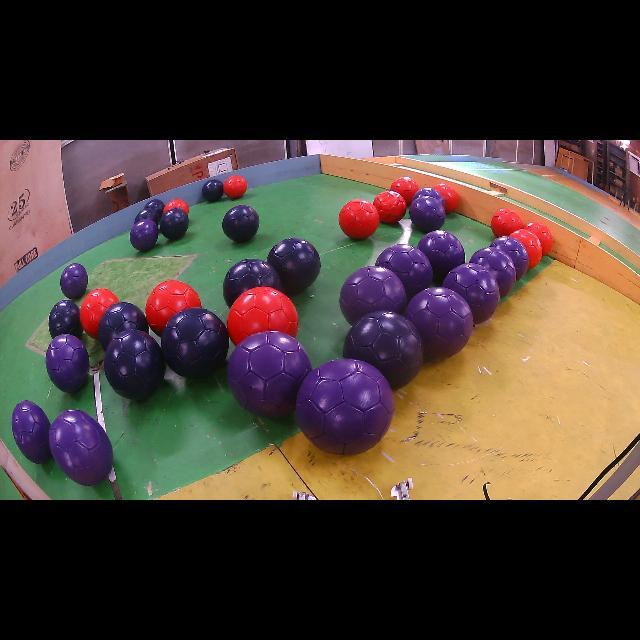B: (344, 310, 424, 389), (161, 308, 229, 379), (104, 329, 165, 399), (222, 259, 284, 308), (268, 238, 321, 294), (98, 302, 149, 351), (222, 205, 260, 242), (49, 300, 82, 339), (160, 208, 189, 240), (201, 180, 224, 201), (135, 209, 159, 226), (145, 199, 165, 216)
P: (296, 359, 395, 455), (228, 331, 312, 418), (405, 288, 474, 361), (49, 410, 112, 485), (340, 265, 406, 325), (442, 262, 500, 325), (375, 244, 432, 301), (45, 334, 90, 392), (11, 400, 51, 464), (470, 246, 516, 297), (418, 230, 465, 279), (490, 236, 529, 279), (409, 196, 445, 233), (60, 262, 88, 299), (130, 219, 159, 252), (412, 188, 445, 208)
R: (228, 286, 299, 345), (145, 280, 201, 336), (80, 289, 120, 339), (339, 200, 380, 239), (509, 229, 542, 268), (374, 191, 406, 224), (491, 209, 522, 238), (524, 222, 552, 254), (390, 176, 419, 205), (434, 184, 459, 212), (224, 175, 248, 199), (162, 199, 189, 214)
